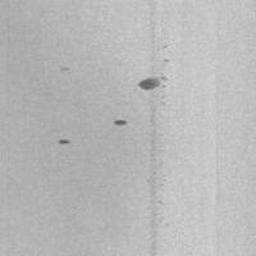Oil spot: (137, 76, 168, 92), (113, 119, 129, 127), (59, 140, 72, 145)
